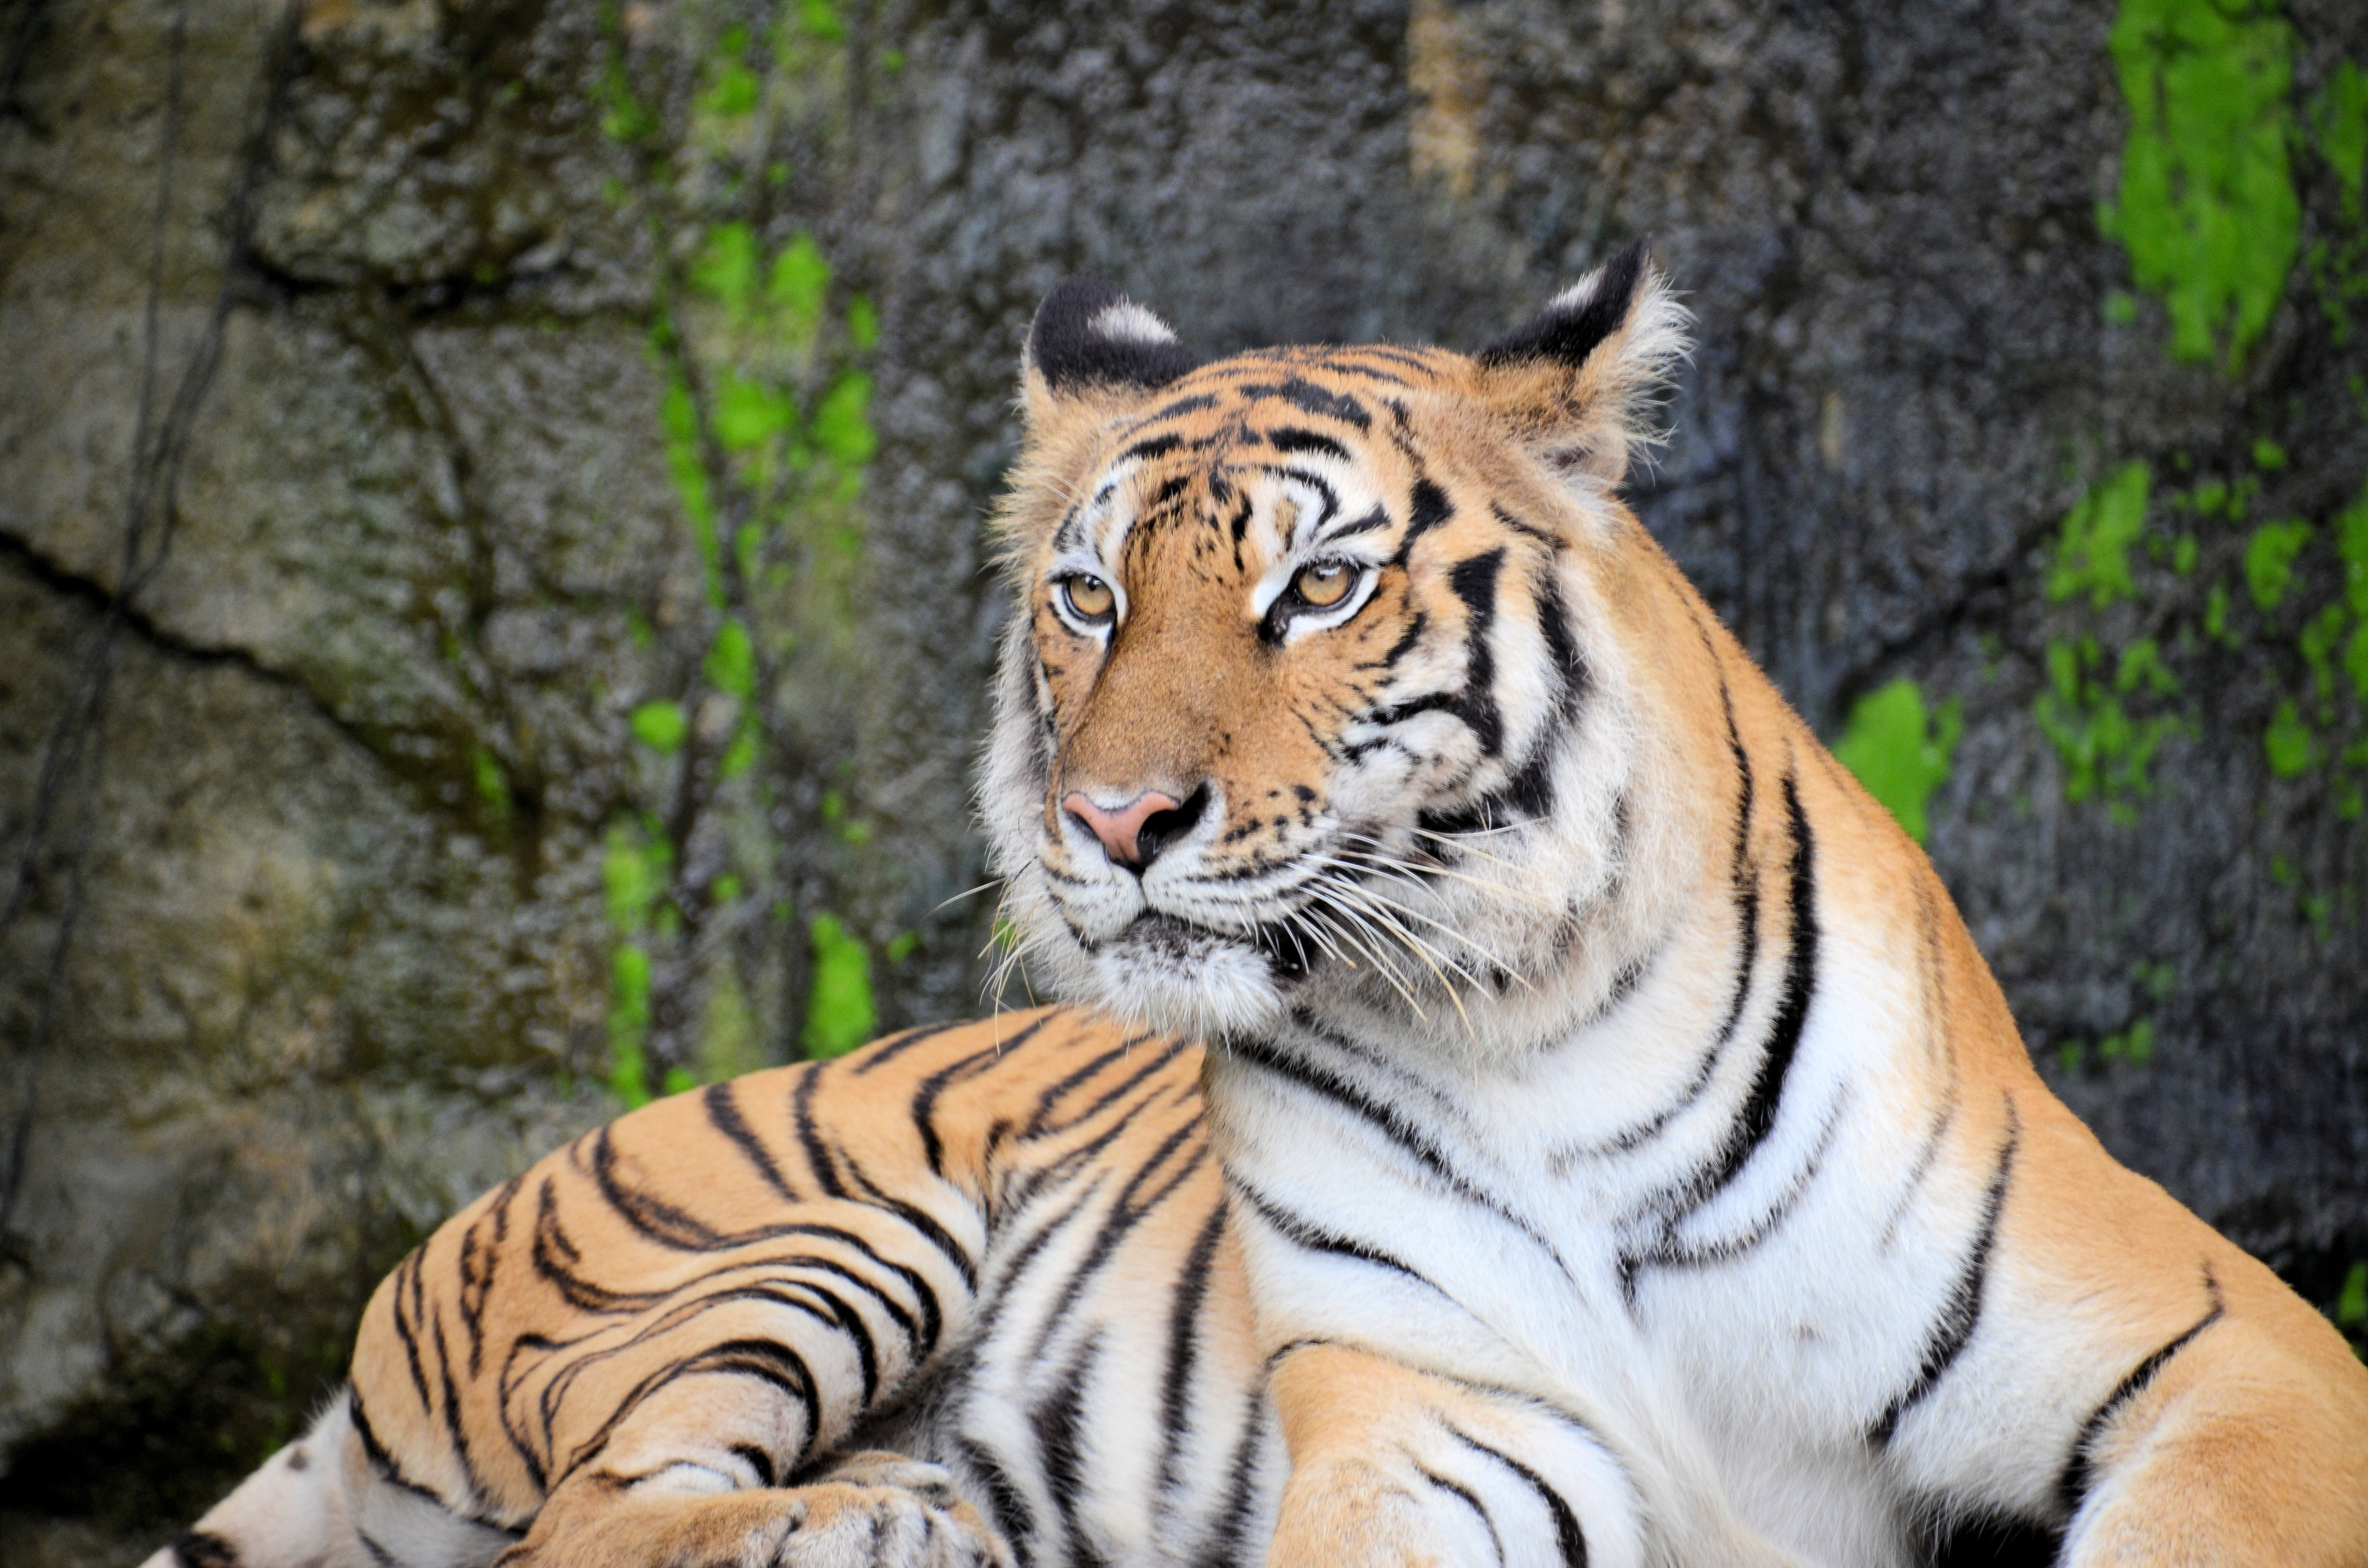tiger: (252, 334, 2286, 1521)
